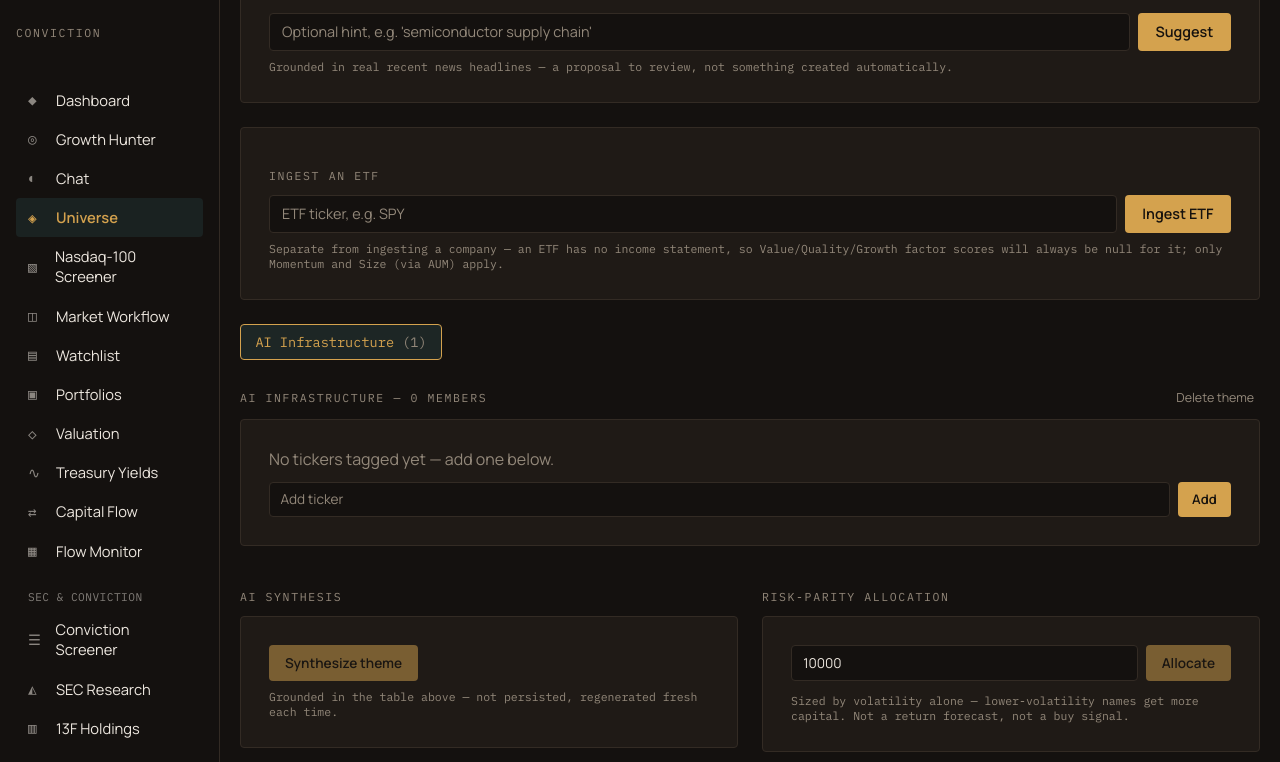
Test: Universe — delete theme › does not delete on a single click — requires explicit confirmation
This screenshot has width=1280, height=762.
(page scrolled)
Click the button "Delete theme" at (1215, 398), box [1170, 388, 1260, 407]
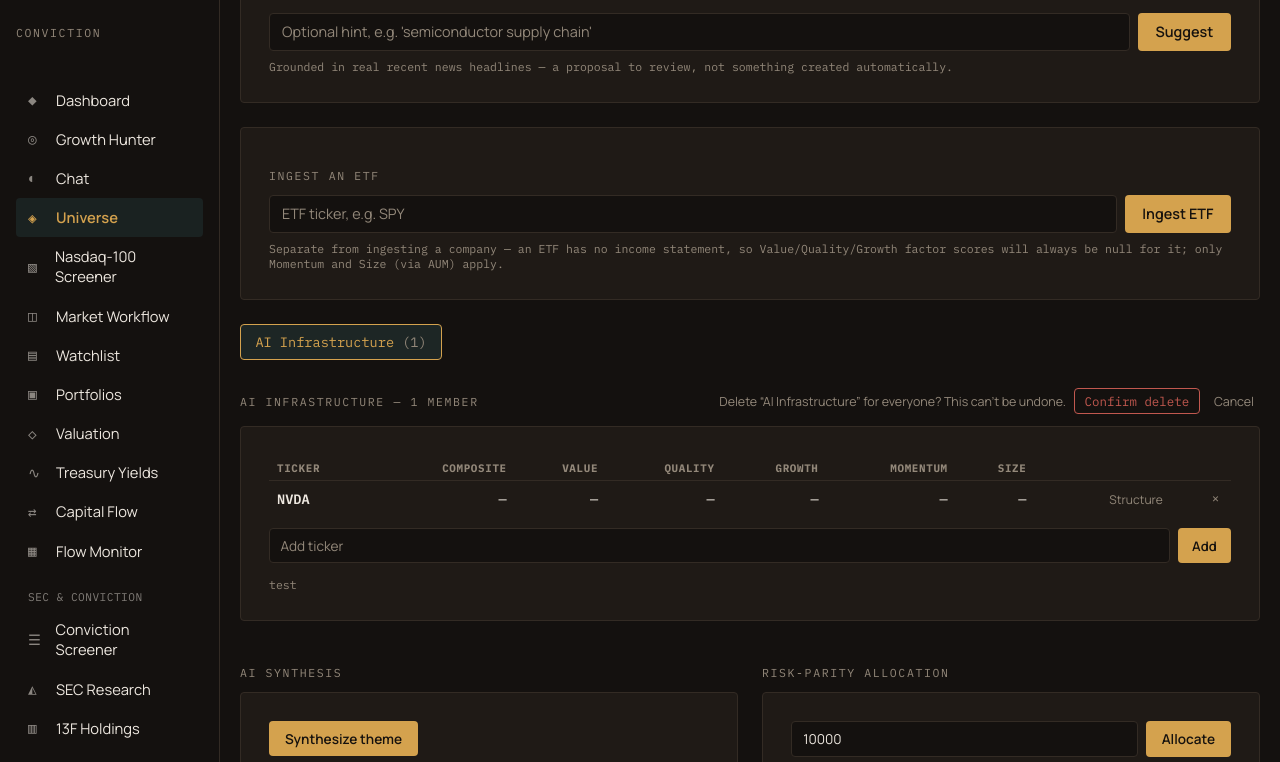
Check: the button "Confirm delete" is shown, box [1074, 388, 1200, 414]
